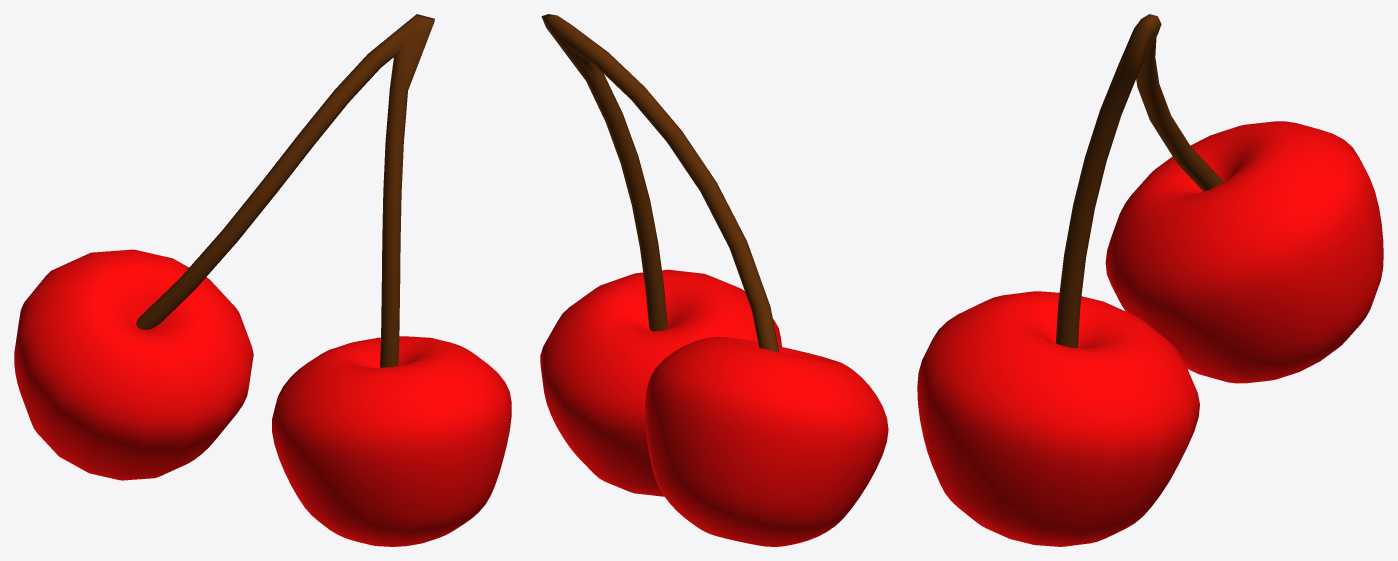
File: Cherry.FBX
3 renders of one model, left to right at view 1: azimuth 30°, elevation 25°; view 2: azimuth 150°, elevation 25°; view 3: azimuth 270°, elevation 25°, orthographic. The views are drawn at different scales.
Visible parts, largest first — view 1: Cherry, Cherry001, CherryShaft; view 2: Cherry, Cherry001, CherryShaft; view 3: Cherry001, Cherry, CherryShaft.
Boxes of the visible parts, left/top/right/bottom form: Cherry: left=14, top=249, right=253, bottom=480; Cherry001: left=272, top=336, right=511, bottom=546; CherryShaft: left=136, top=14, right=434, bottom=367; Cherry: left=645, top=336, right=888, bottom=546; Cherry001: left=540, top=269, right=781, bottom=496; CherryShaft: left=541, top=14, right=779, bottom=351; Cherry001: left=917, top=291, right=1199, bottom=546; Cherry: left=1105, top=121, right=1383, bottom=383; CherryShaft: left=1056, top=14, right=1223, bottom=347.
Size of the model in its own units: 71.3 by 82.59 by 62.91.
1 material, 1 textured.
